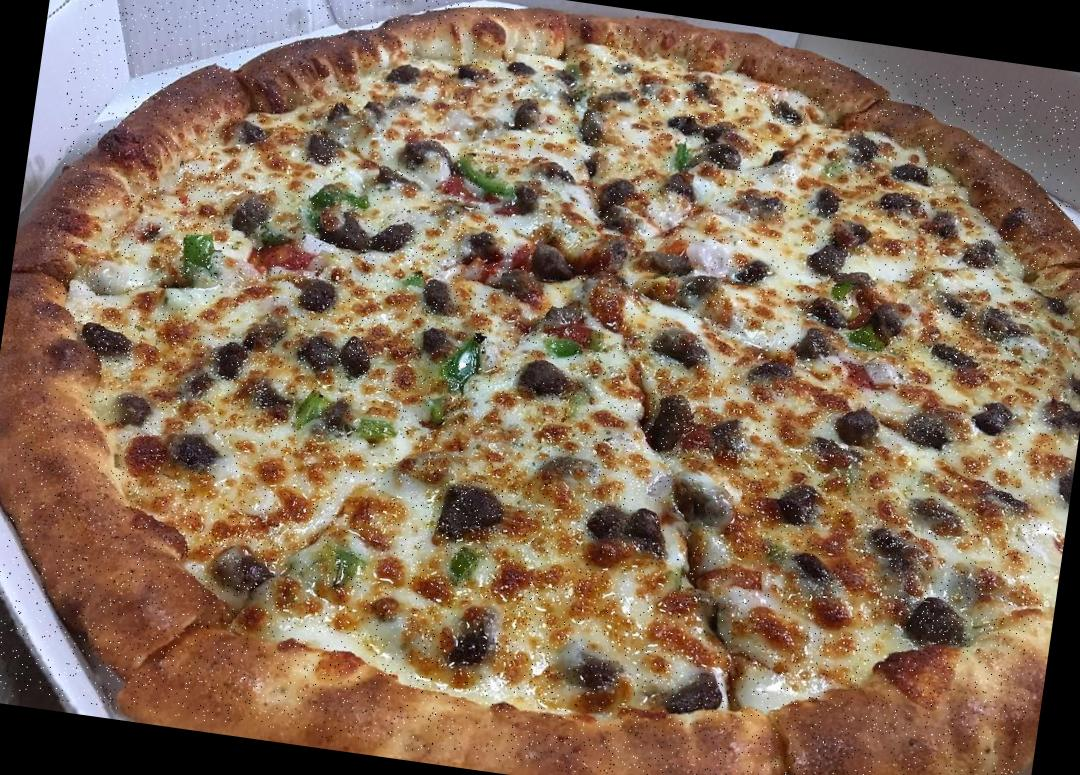Cheese: (490, 538, 577, 702), (966, 516, 1044, 600), (458, 403, 544, 468), (422, 92, 506, 148), (176, 162, 233, 235), (422, 206, 465, 268)
Mushroom: (582, 495, 676, 562), (434, 478, 512, 550), (314, 206, 421, 258), (202, 534, 278, 604), (898, 583, 976, 647), (296, 329, 378, 383), (657, 661, 728, 722), (643, 385, 697, 464), (668, 464, 725, 527), (590, 172, 641, 238), (646, 319, 720, 364), (774, 478, 833, 530), (169, 426, 228, 476), (79, 318, 137, 368), (667, 110, 746, 146), (447, 618, 496, 676), (516, 356, 576, 402), (290, 272, 344, 322), (528, 241, 580, 288), (207, 333, 253, 383), (702, 408, 746, 460), (805, 235, 855, 280), (862, 517, 909, 564), (970, 393, 1018, 438), (900, 409, 951, 450), (867, 296, 908, 346), (301, 128, 349, 170), (642, 242, 697, 278), (929, 339, 983, 375), (837, 404, 880, 448), (421, 272, 461, 318), (978, 306, 1026, 344), (732, 253, 780, 290), (508, 92, 548, 134), (681, 266, 719, 308), (962, 236, 1003, 274), (576, 104, 610, 148), (701, 138, 745, 171), (798, 324, 837, 361), (232, 194, 268, 234), (416, 322, 453, 360), (888, 156, 933, 187), (876, 189, 920, 220), (846, 130, 886, 164), (465, 230, 506, 262), (386, 54, 425, 87), (511, 183, 546, 216), (769, 97, 806, 127), (504, 56, 540, 80), (456, 61, 486, 85)
Peppers: (450, 154, 514, 199), (178, 229, 223, 284), (535, 324, 586, 366), (346, 407, 399, 447), (326, 541, 368, 590), (295, 384, 338, 430), (447, 336, 482, 387), (446, 548, 477, 588), (422, 389, 451, 431), (848, 322, 884, 352), (670, 140, 700, 175), (830, 278, 857, 305)
Pizza: (0, 0, 1080, 775)
